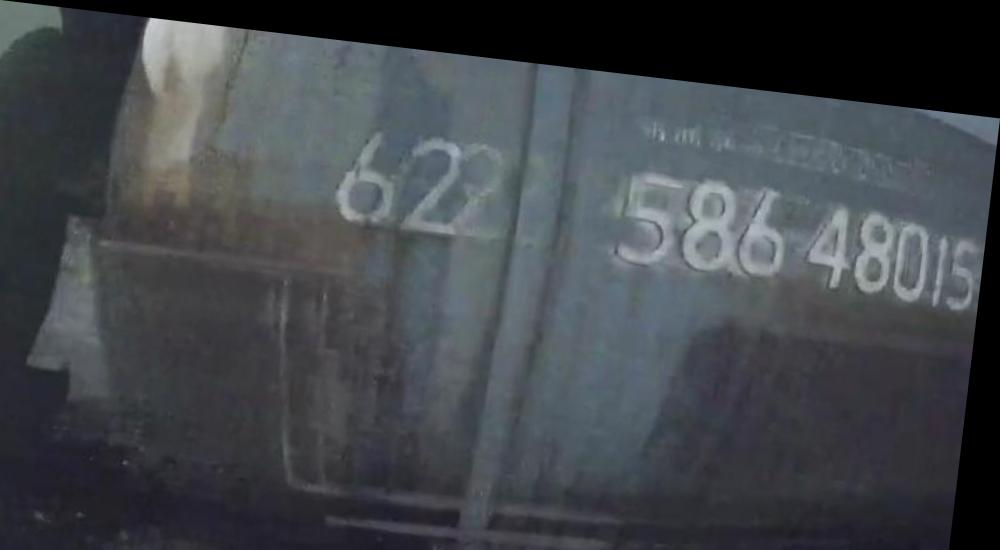Wagon-number: (614, 148, 989, 298)
